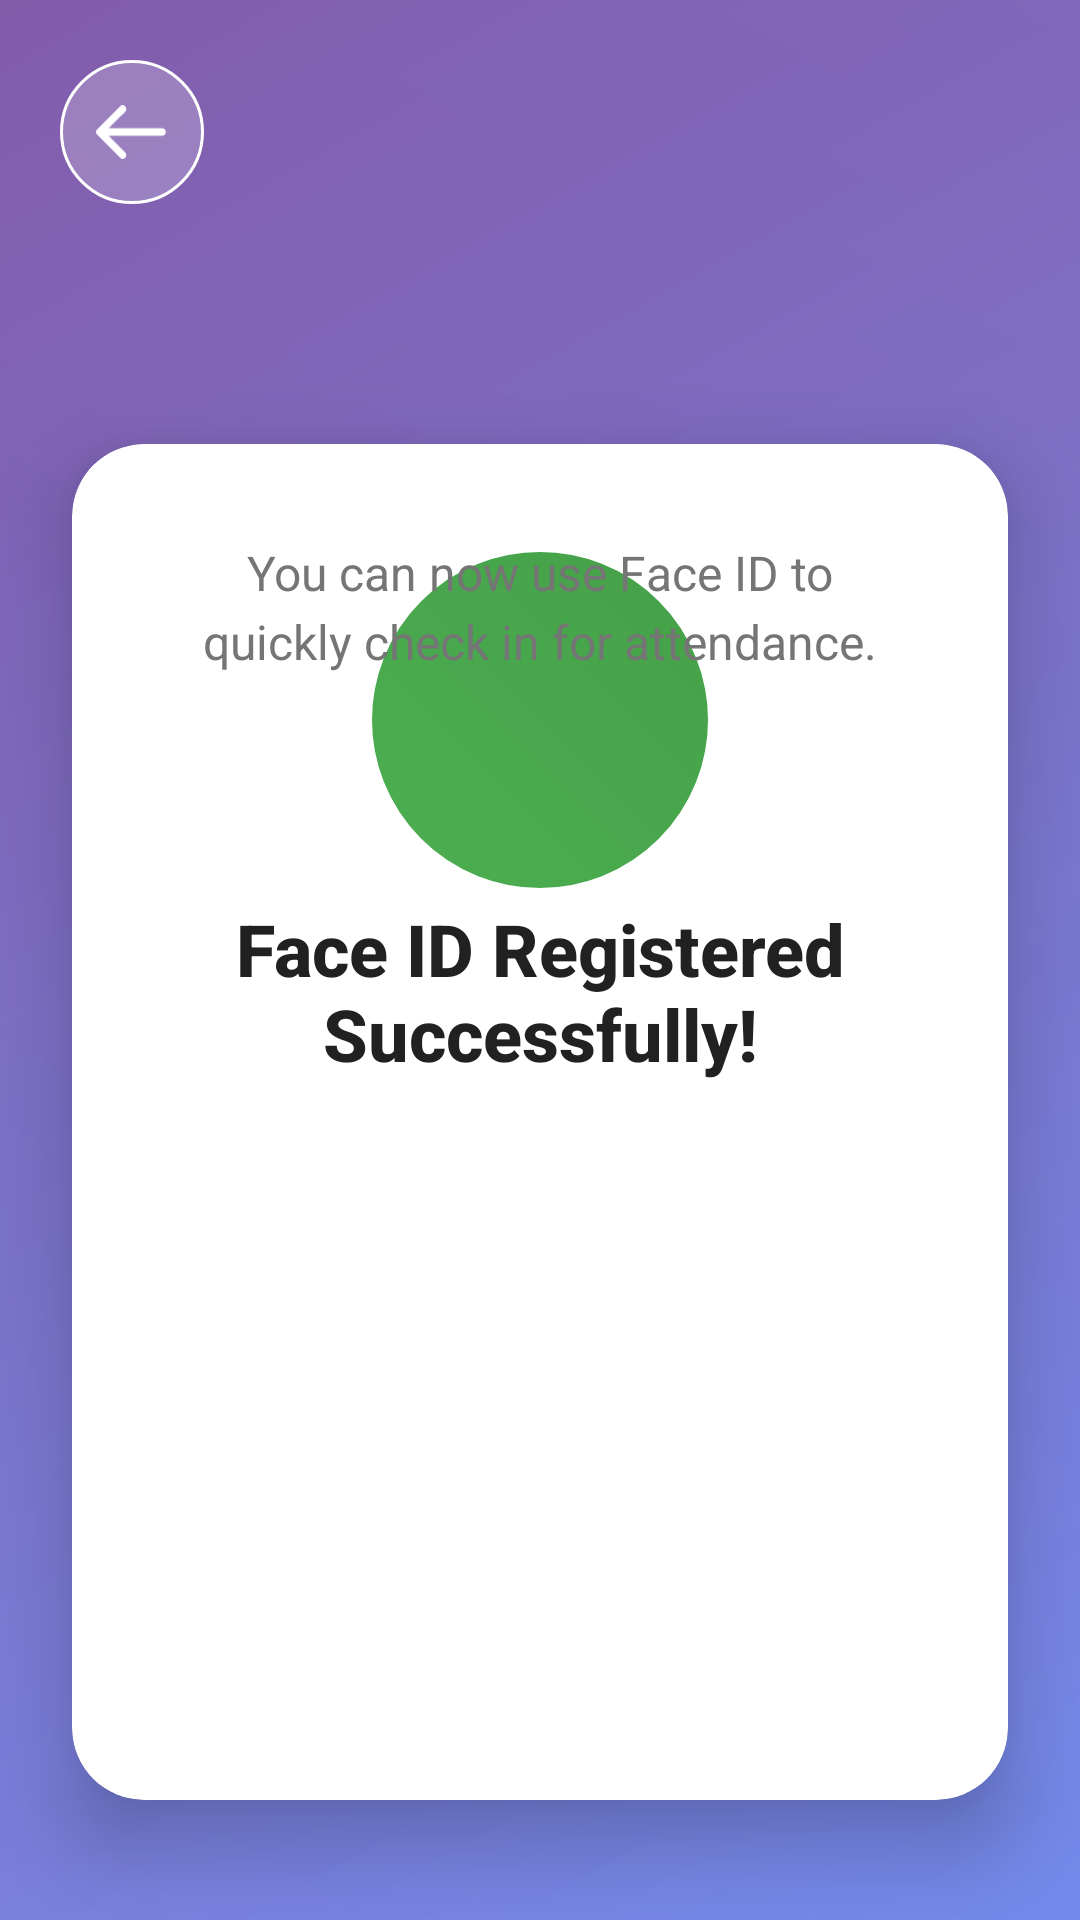

Icons on this 1080 x 1920 Android screen, each with the point to tap as [x,y]:
arrow back: [132,132]
